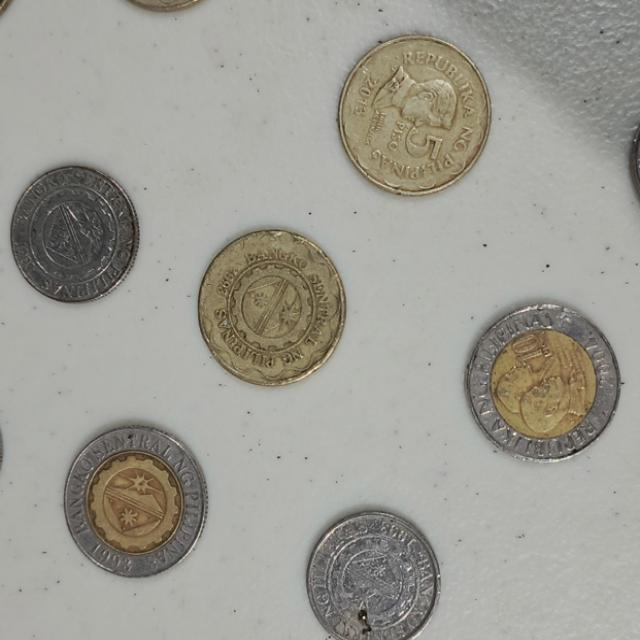10_peso: (466, 304, 618, 460), (64, 426, 205, 577)
1_peso: (11, 167, 138, 301), (307, 512, 439, 639)
5_peso: (339, 35, 490, 194), (199, 231, 344, 385)
